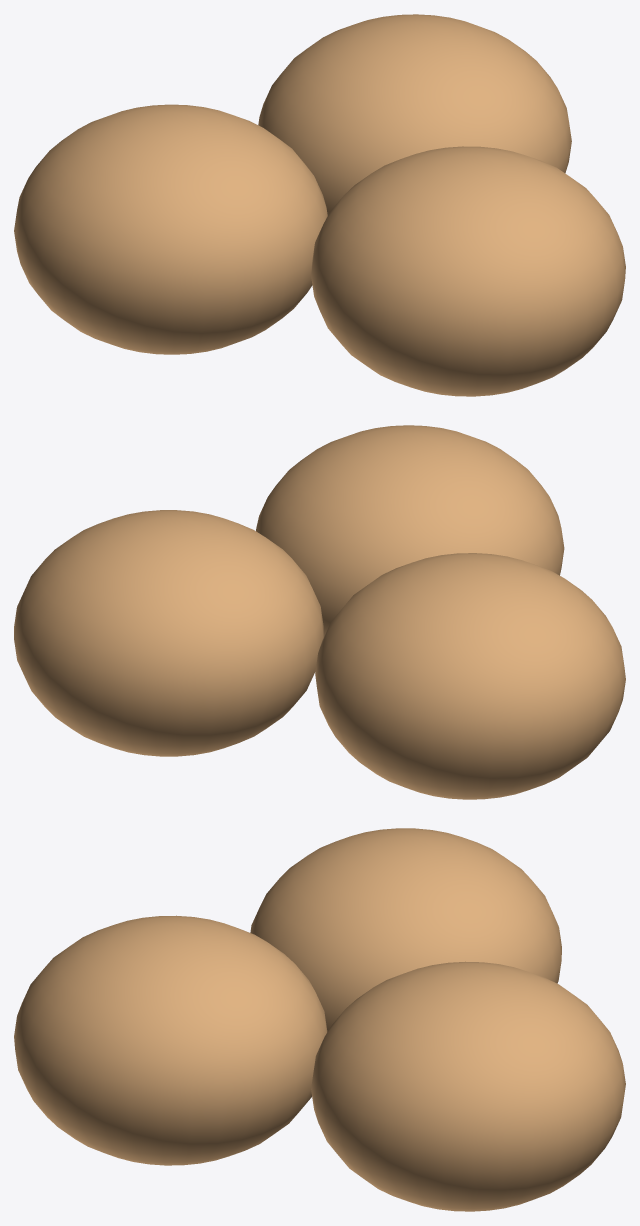
File: burntondeh7.fbx
3 renders of one model, top to bottom at view 1: azimuth 30°, elevation 25°; view 2: azimuth 150°, elevation 25°; view 3: azimuth 270°, elevation 25°, orthographic.
Visible parts, largest first — view 1: Sphere.090, Sphere.002, Sphere.092; view 2: Sphere.002, Sphere.092, Sphere.090; view 3: Sphere.092, Sphere.090, Sphere.002.
Part boxes in pixels (left/top/right/bottom): Sphere.090: left=311, top=146, right=625, bottom=396; Sphere.002: left=14, top=104, right=327, bottom=354; Sphere.092: left=258, top=14, right=571, bottom=215; Sphere.002: left=315, top=553, right=625, bottom=799; Sphere.092: left=14, top=510, right=323, bottom=756; Sphere.090: left=256, top=425, right=564, bottom=636; Sphere.092: left=311, top=961, right=625, bottom=1211; Sphere.090: left=14, top=915, right=327, bottom=1165; Sphere.002: left=250, top=828, right=561, bottom=1031.
Bounding box in the file's own units: 130 × 48.17 × 126.
